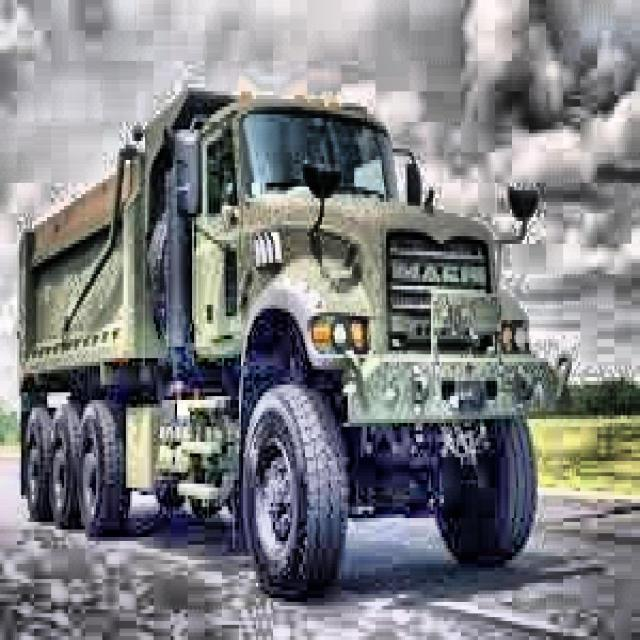dump_truck: (16, 86, 568, 600)
